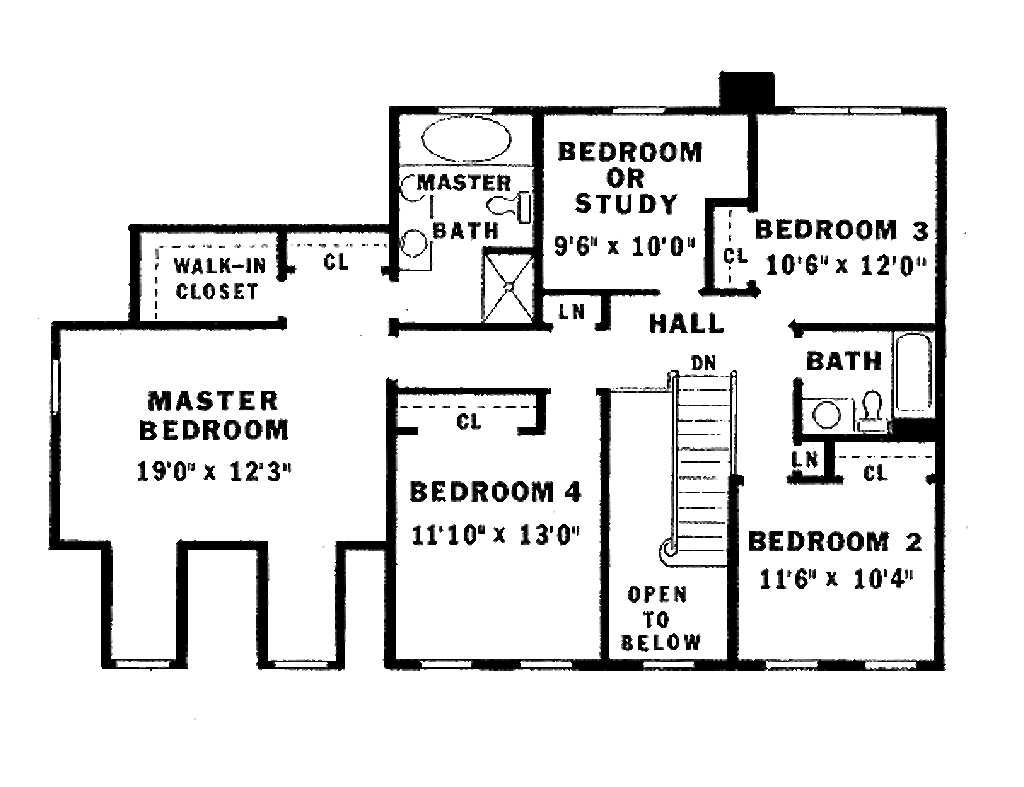large_sink: (478, 182, 534, 226), (853, 381, 887, 436)
small_sink: (395, 166, 434, 274), (798, 393, 859, 438)
stairs: (655, 368, 734, 570)
tub: (398, 109, 541, 171), (889, 329, 942, 423)
window: (789, 103, 906, 119), (516, 653, 577, 680), (764, 655, 830, 677), (856, 656, 925, 676), (48, 354, 66, 416), (639, 655, 699, 673), (417, 658, 474, 676), (609, 105, 667, 120)
